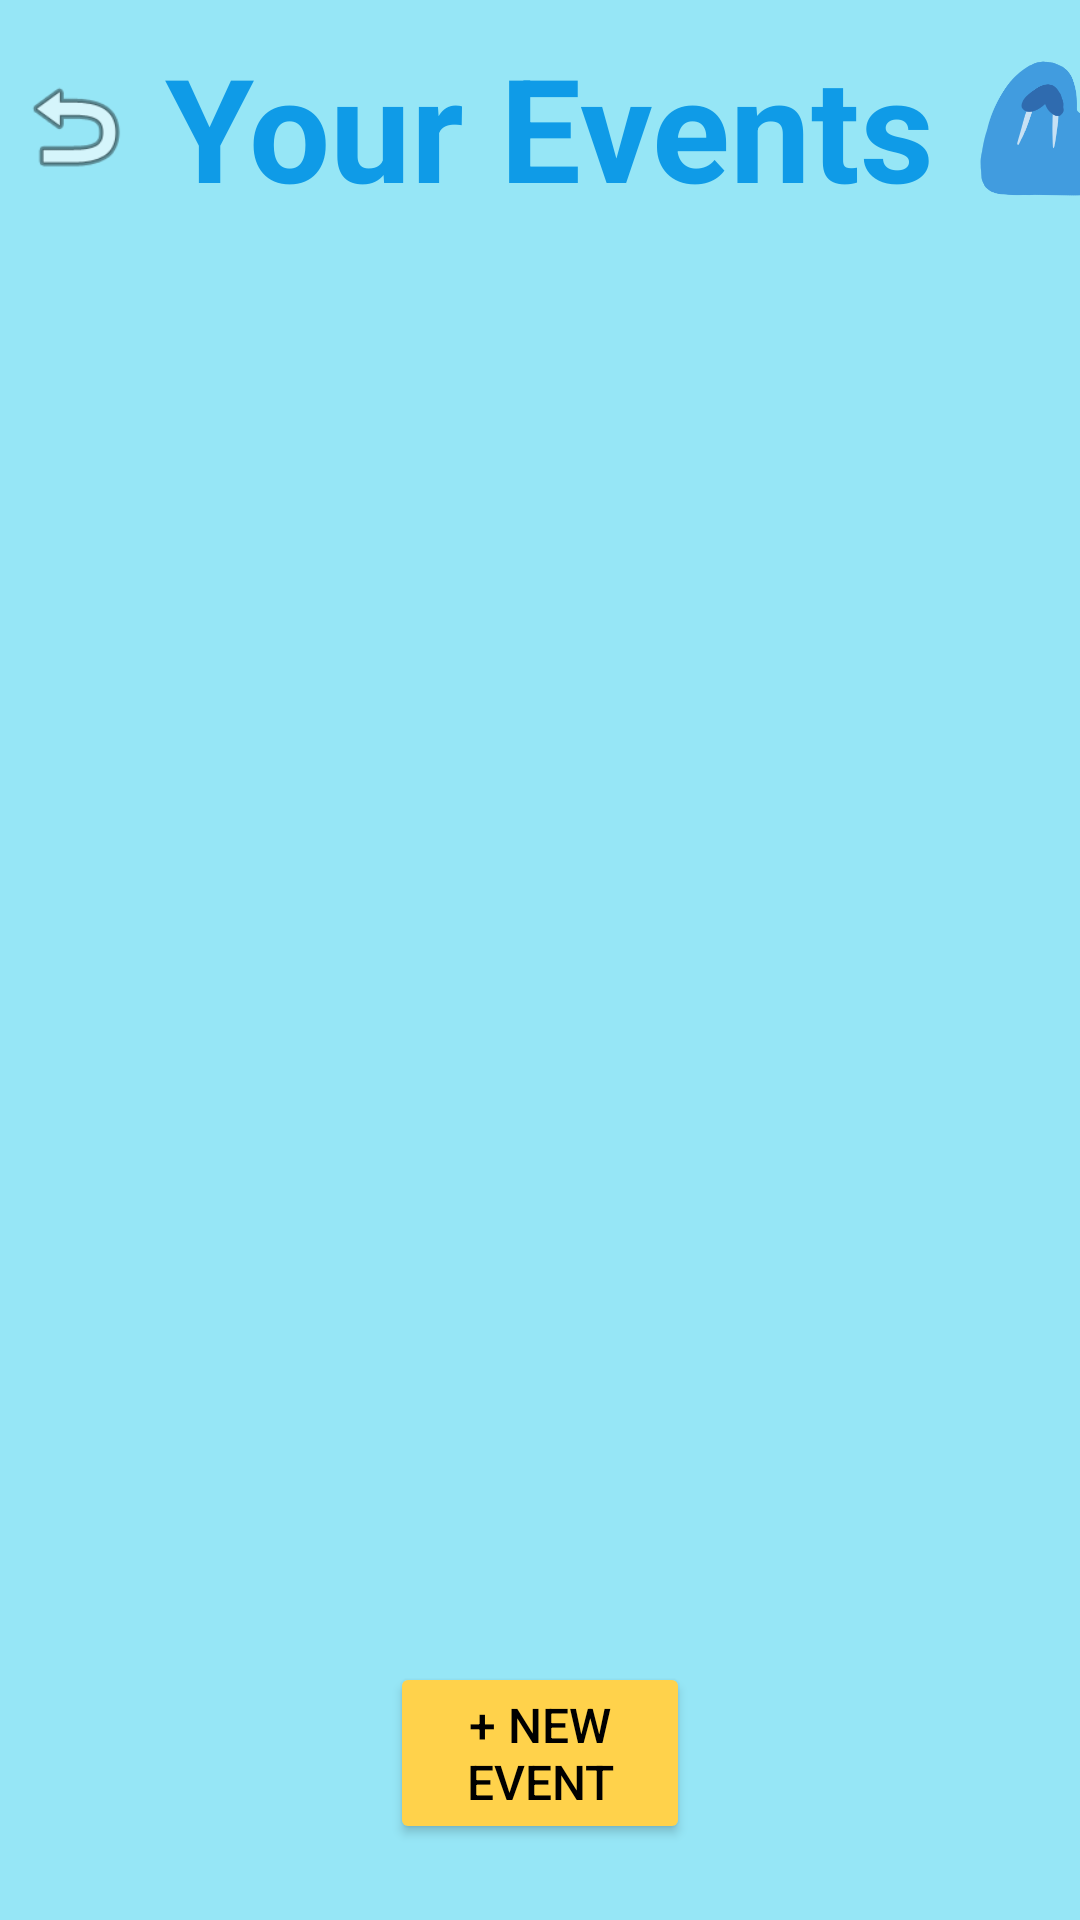

Named icons in this screenshot (1080px x 1920px) and their centers, (x=x, y=y):
revert: (x=76, y=127)
